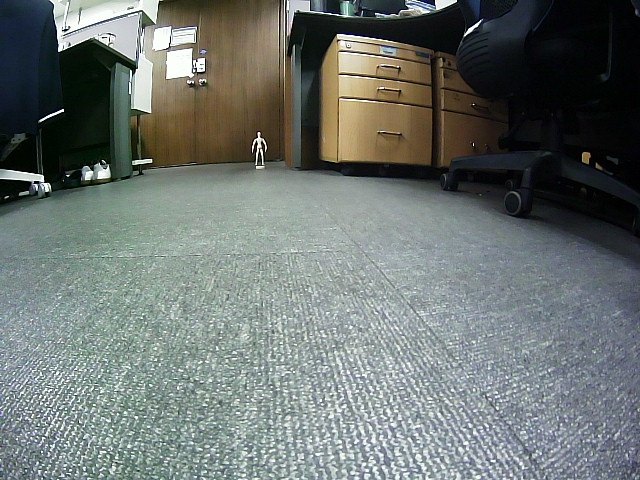person: (251, 131, 268, 165)
